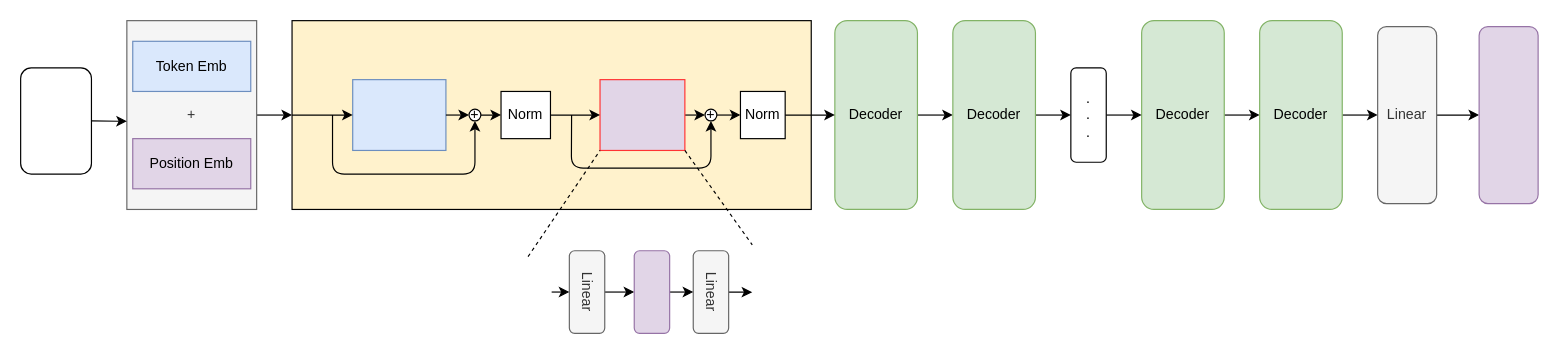
The diagram is 1559 pixels wide and 354 high, and some of its shapes have lost their labels. The shapes that lost their labels are listed below. From the top down, each one's centre as x and y in pixels, then its label:
the point at 55,120: Tokens
the point at 399,114: Masked Multi+Head Attention
the point at 642,114: Feed Forward Network
the point at 1508,114: Softmax
the point at 651,291: ReLU
